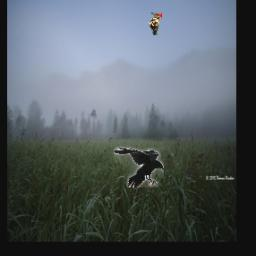Crow: (114, 148, 164, 188)
Woodpecker: (148, 12, 162, 35)
